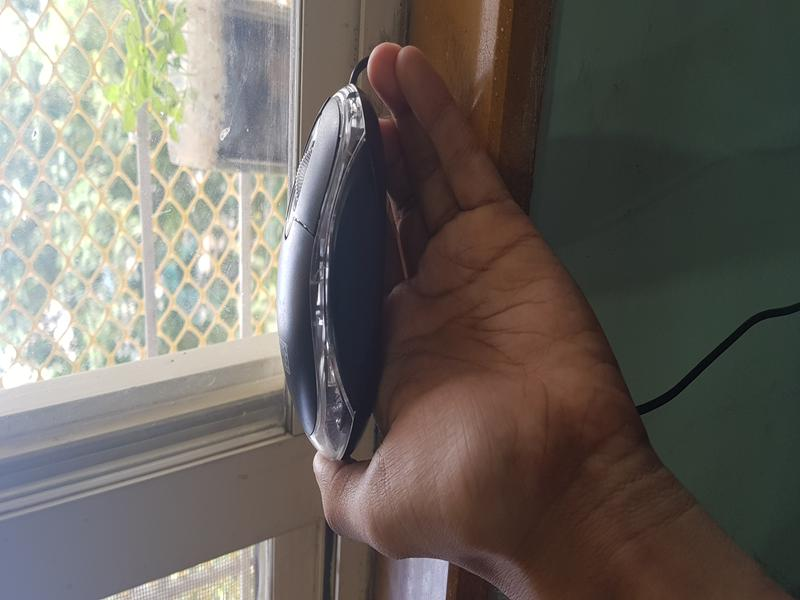mouse: (259, 64, 390, 469)
